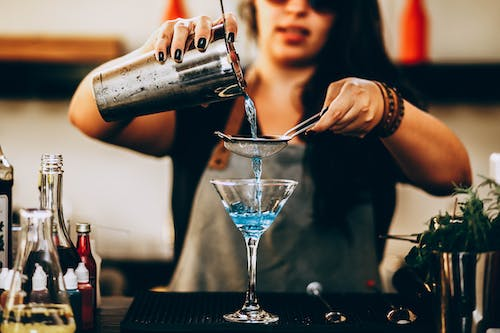alcohol: (208, 176, 299, 325)
